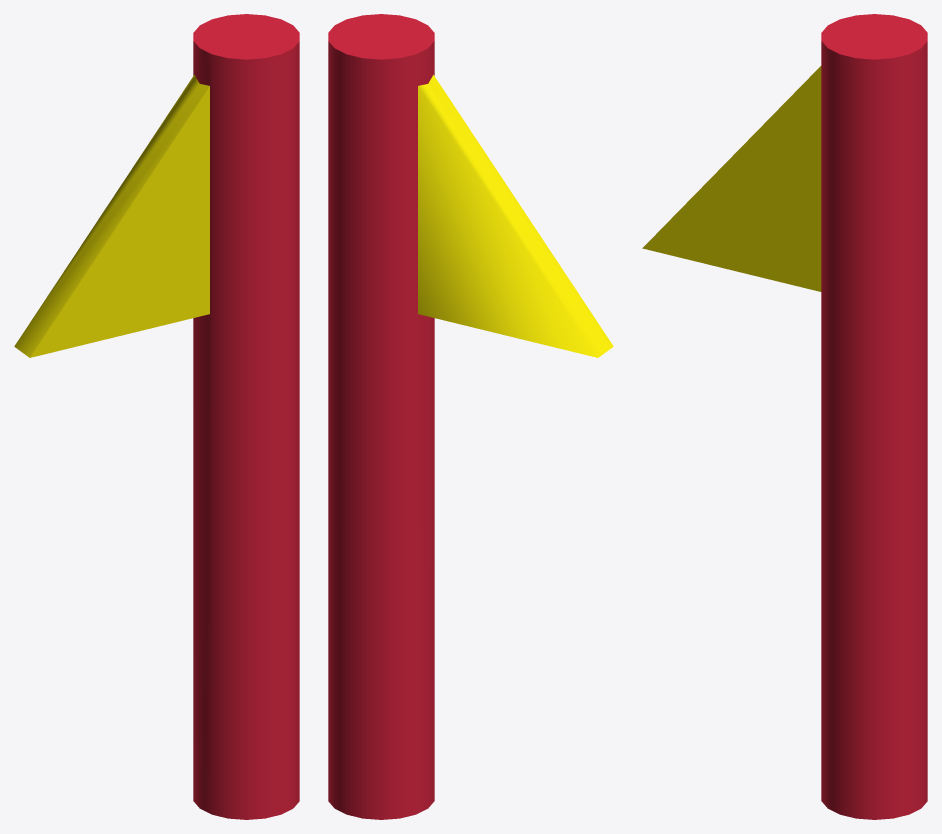
The model's file is testGoal.FBX.
3 renders of one model, left to right at view 1: azimuth 30°, elevation 25°; view 2: azimuth 150°, elevation 25°; view 3: azimuth 330°, elevation 25°, orthographic.
Parts seen in each view (by area): view 1: Cylinder001; view 2: Cylinder001; view 3: Cylinder001.
Part boxes in pixels (x1=…): Cylinder001: x1=14, y1=14, x2=299, y2=819; Cylinder001: x1=328, y1=14, x2=613, y2=819; Cylinder001: x1=642, y1=14, x2=927, y2=819.
Bounding box in the file's own units: 10.03 × 26.85 × 3.4.
Materials: 2 (2 with a texture image).
